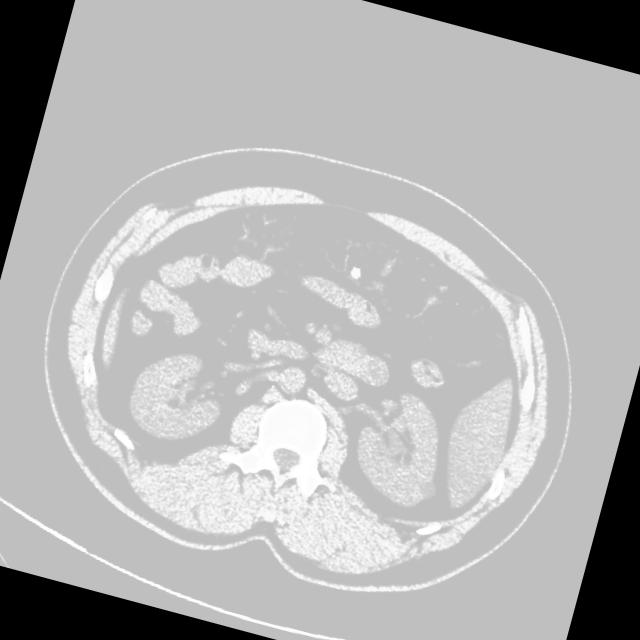cysts: (9, 115, 608, 634)
